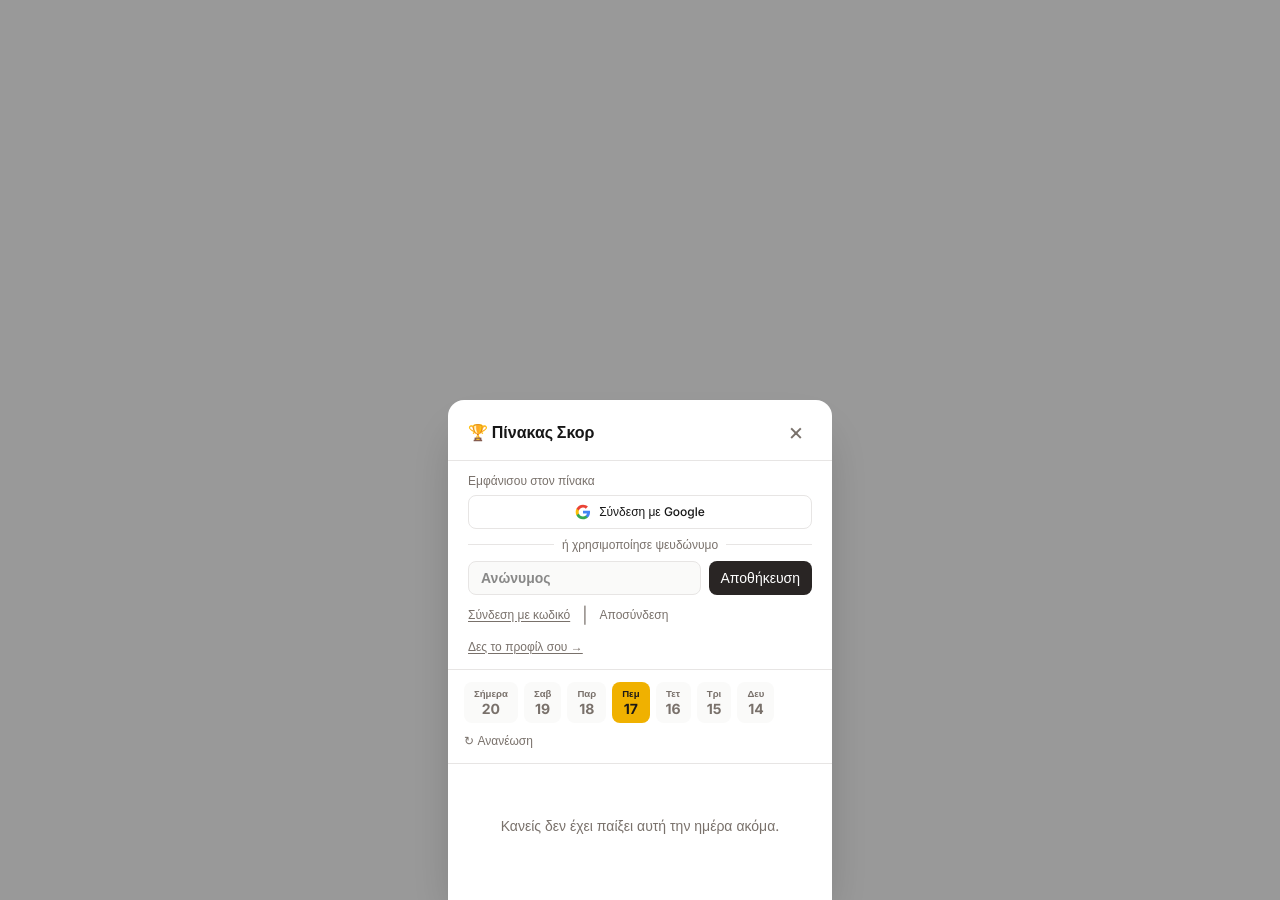
Test case: LeaderboardModal — play link › shows 'Παίξε το σημερινό παζλ' link when on a past puzzle and today pill is selected
Click the button with aria-label "2026-09-20": (491, 702) [464,682,518,723]
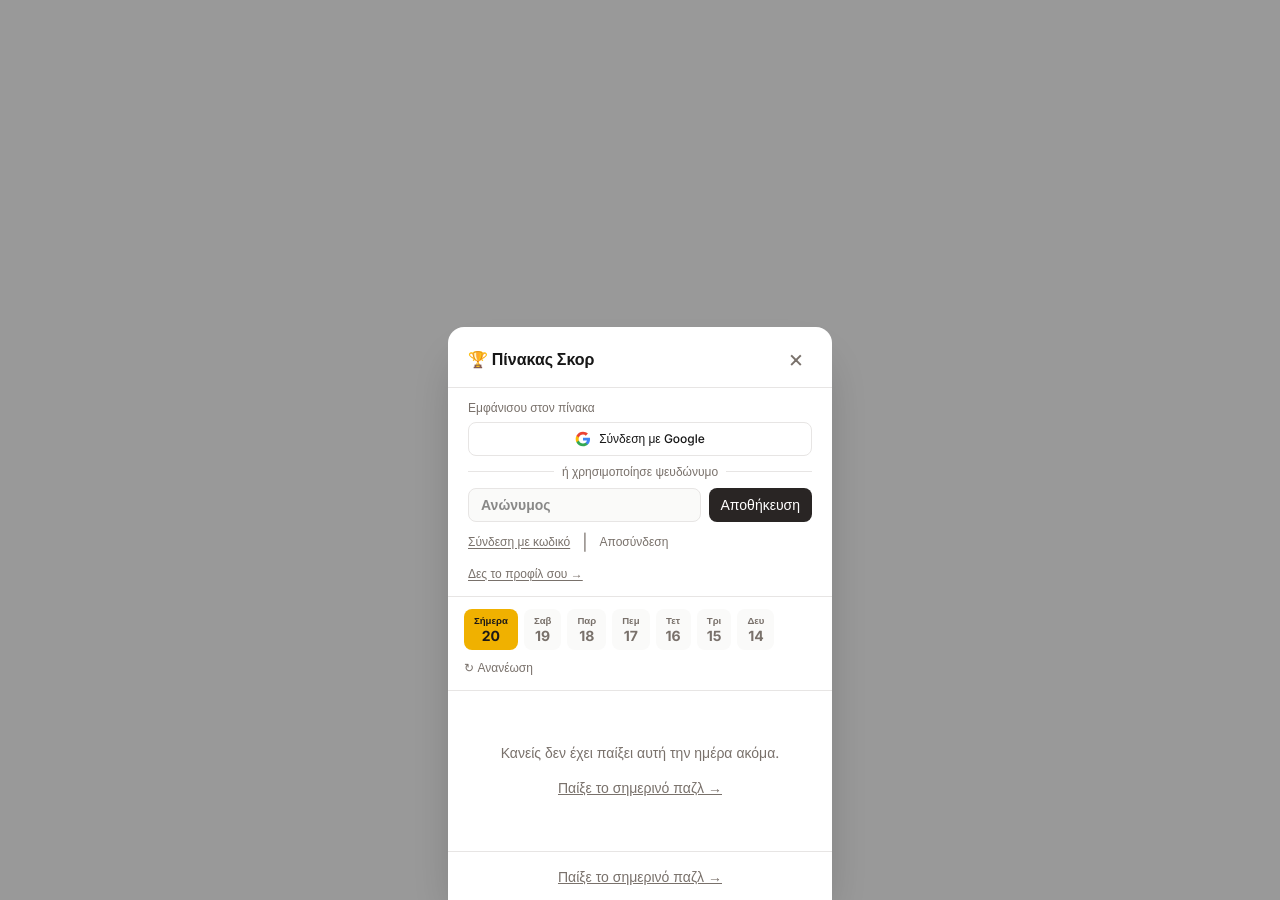
Expected: the 1st link "Παίξε το σημερινό παζλ →" is shown, [558,779,722,796]
